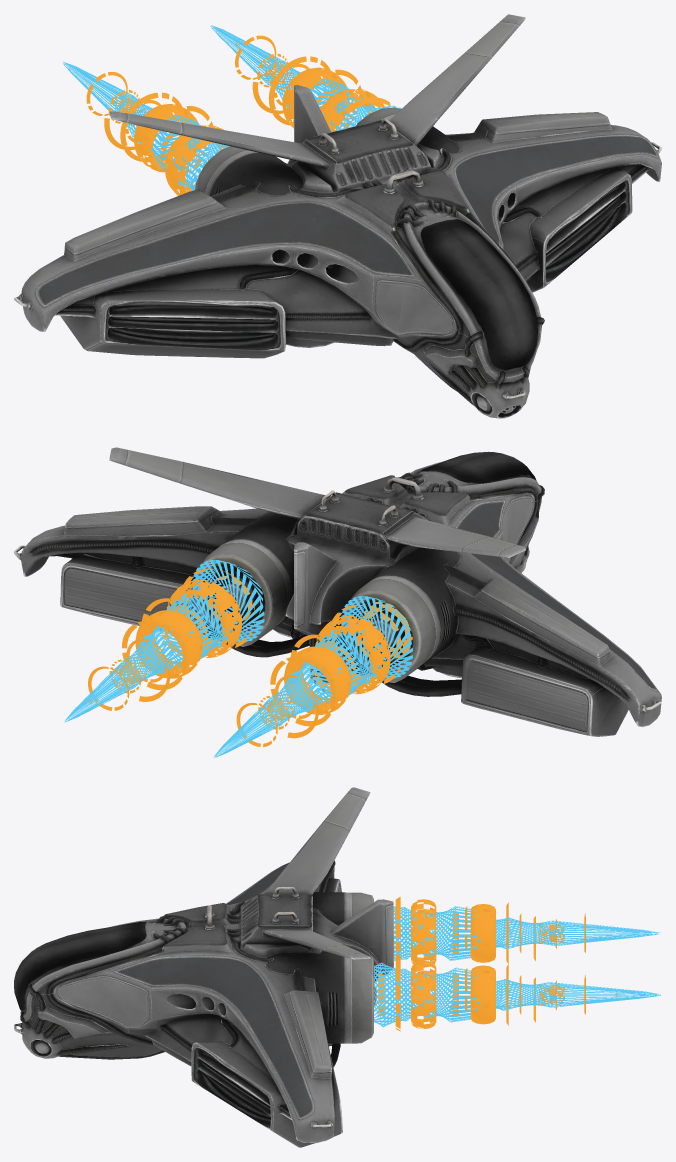
The model's file is spaceship-transformed.glb.
3 views of the same model, one above another, from view 1: azimuth 30°, elevation 25°; view 2: azimuth 150°, elevation 25°; view 3: azimuth 270°, elevation 25° (orthographic). The views are drawn at different scales.
Visible parts, largest first — view 1: Ship, Torus.002, Circle, Torus.006, Circle.001, Torus.003, Torus.005; view 2: Ship, Circle.001, Circle, Torus.002, Torus.006, Torus.003, Torus.005; view 3: Ship, Circle.001, Circle, Torus.005, Torus.006, Torus.002, Torus.003.
Boxes of the visible parts, x1,y1,x2,y2 form: Ship: (14, 14, 661, 418); Torus.002: (86, 72, 213, 172); Circle: (63, 61, 229, 191); Torus.006: (235, 35, 361, 131); Circle.001: (210, 25, 401, 131); Torus.003: (160, 125, 229, 195); Torus.005: (316, 88, 393, 131); Ship: (14, 447, 661, 736); Circle.001: (64, 560, 264, 722); Circle: (213, 596, 412, 757); Torus.002: (236, 634, 351, 746); Torus.006: (88, 598, 203, 710); Torus.003: (310, 604, 403, 694); Torus.005: (162, 568, 255, 657); Ship: (14, 787, 393, 1147); Circle.001: (374, 962, 660, 1027); Circle: (393, 906, 659, 960); Torus.005: (378, 958, 458, 1031); Torus.006: (457, 964, 585, 1025); Torus.002: (457, 902, 585, 963); Torus.003: (395, 897, 458, 967).
Bounding box in the file's own units: 9.55 × 3.1 × 9.83.
3 materials, 1 textured.
